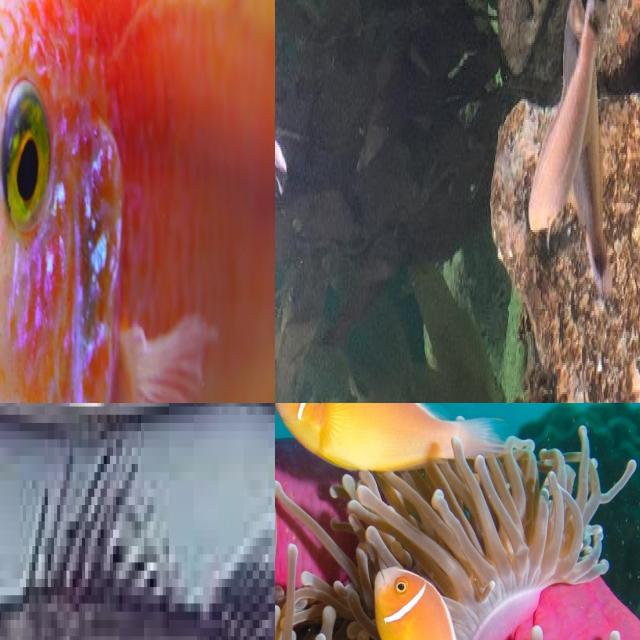fish: (0, 0, 275, 403), (0, 439, 275, 640)
